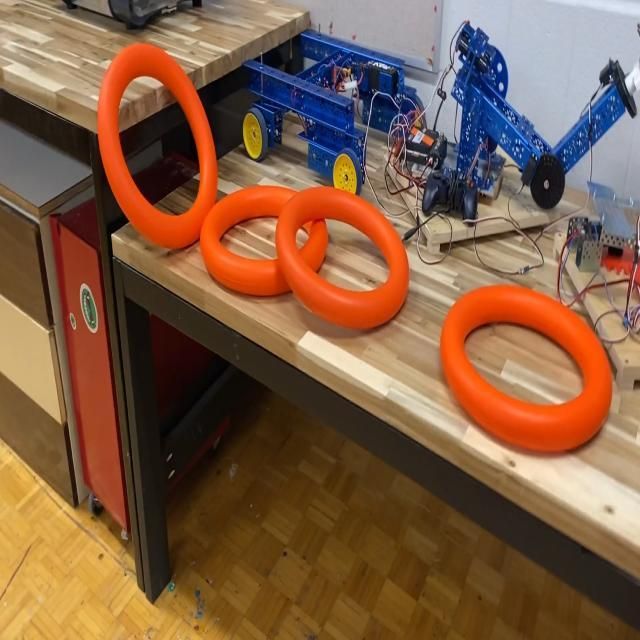note: (439, 284, 615, 455), (96, 42, 218, 252), (276, 183, 410, 334), (202, 184, 328, 298)
